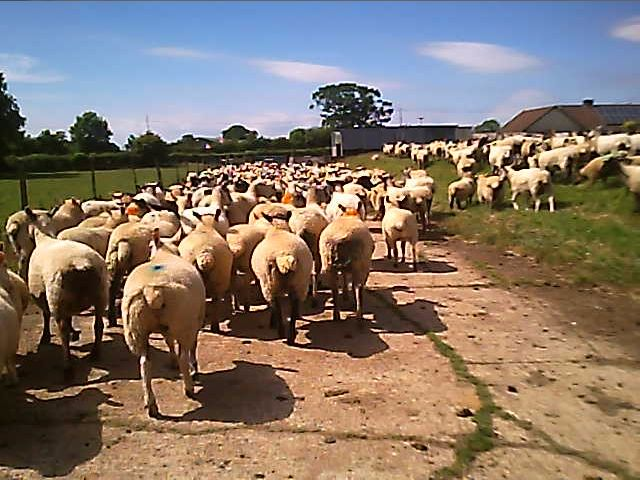sheep: (122, 231, 210, 409), (23, 208, 110, 369), (251, 212, 313, 344), (319, 201, 378, 331), (188, 210, 236, 324), (378, 193, 420, 273), (501, 164, 558, 215), (447, 173, 476, 210)
